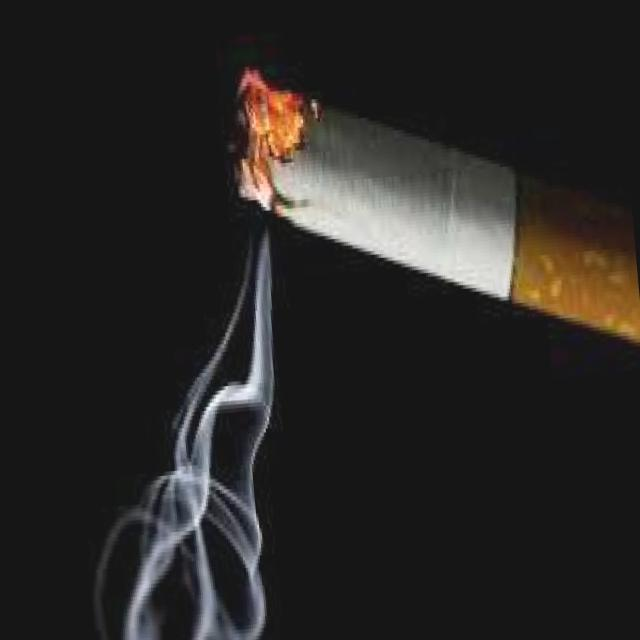cigarette: (223, 34, 640, 387)
